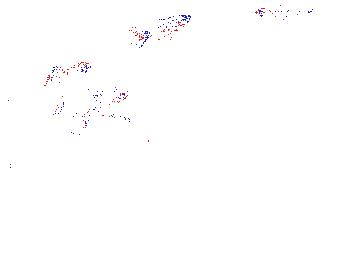glassfish: (1, 89, 74, 138), (69, 107, 159, 145)
red belly glassfish: (256, 6, 312, 23)
redtail glassfish: (50, 88, 130, 118), (131, 13, 191, 52), (46, 57, 93, 89)
